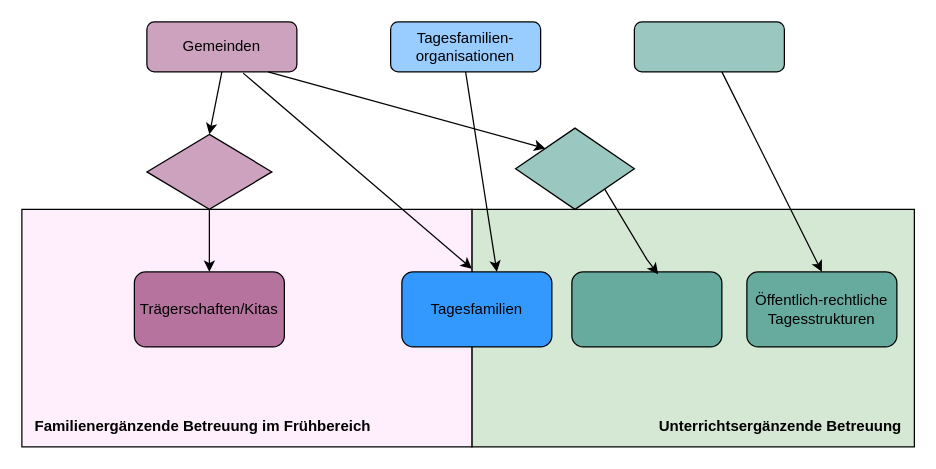
This 936x469 diagram has some shape labels left out. Here are the shapes that lost their labels. From the top down, the centre of each, then its label:
point 708,46: Schulverwaltungen
point 209,171: Liste Kitas
point 574,168: Liste Private Horte
point 646,309: Privat-rechtliche Tagesstrukturen
